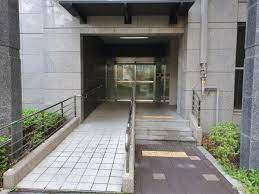guide_blocks: (143, 150, 187, 157), (145, 115, 175, 119)
